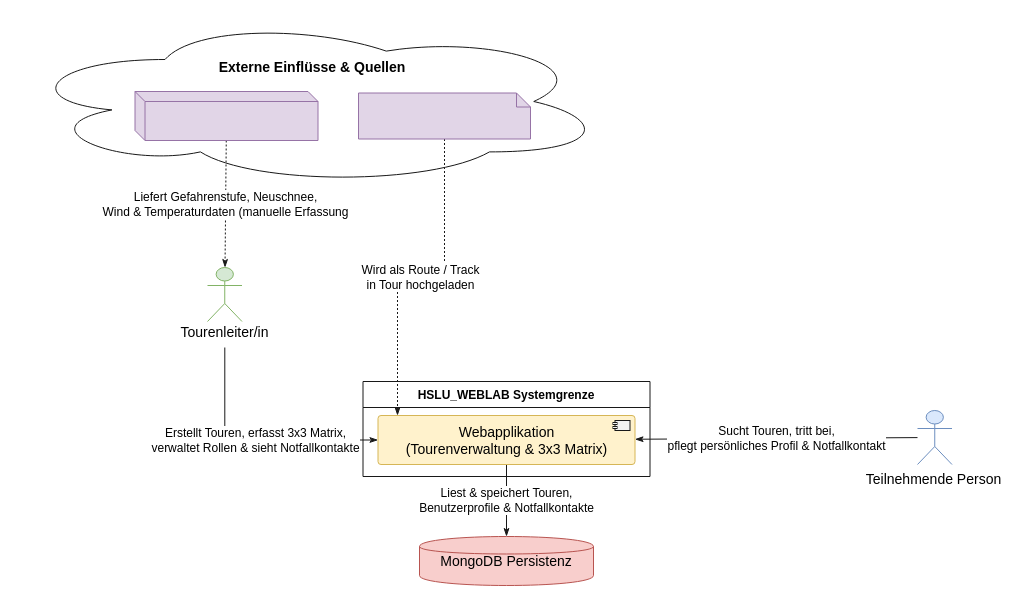
This 1025x603 diagram has some shape labels left out. The shapes that lost their labels are listed below. From the top down, each one's centre as x and y in pixels, then its label:
At point 226,115: "SLF Lawinenbulletin / Wetterdienste".
At point 444,115: "GPX-Track Datei (Lokales Dateisystem)".
